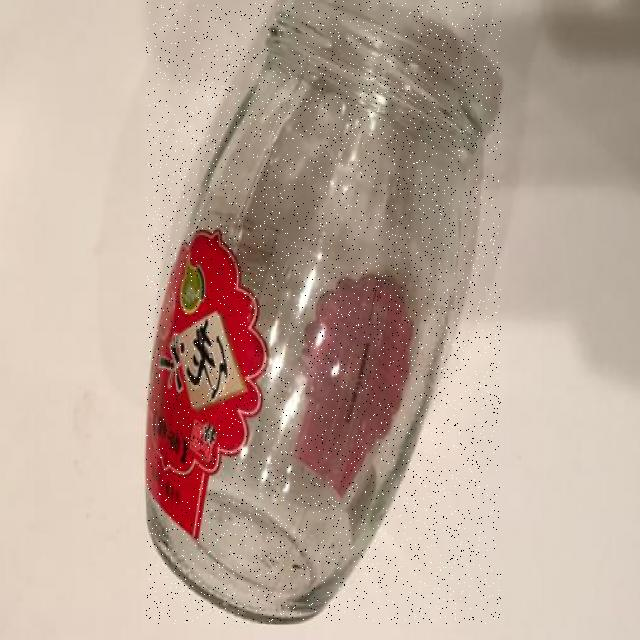glass: (147, 1, 501, 623)
